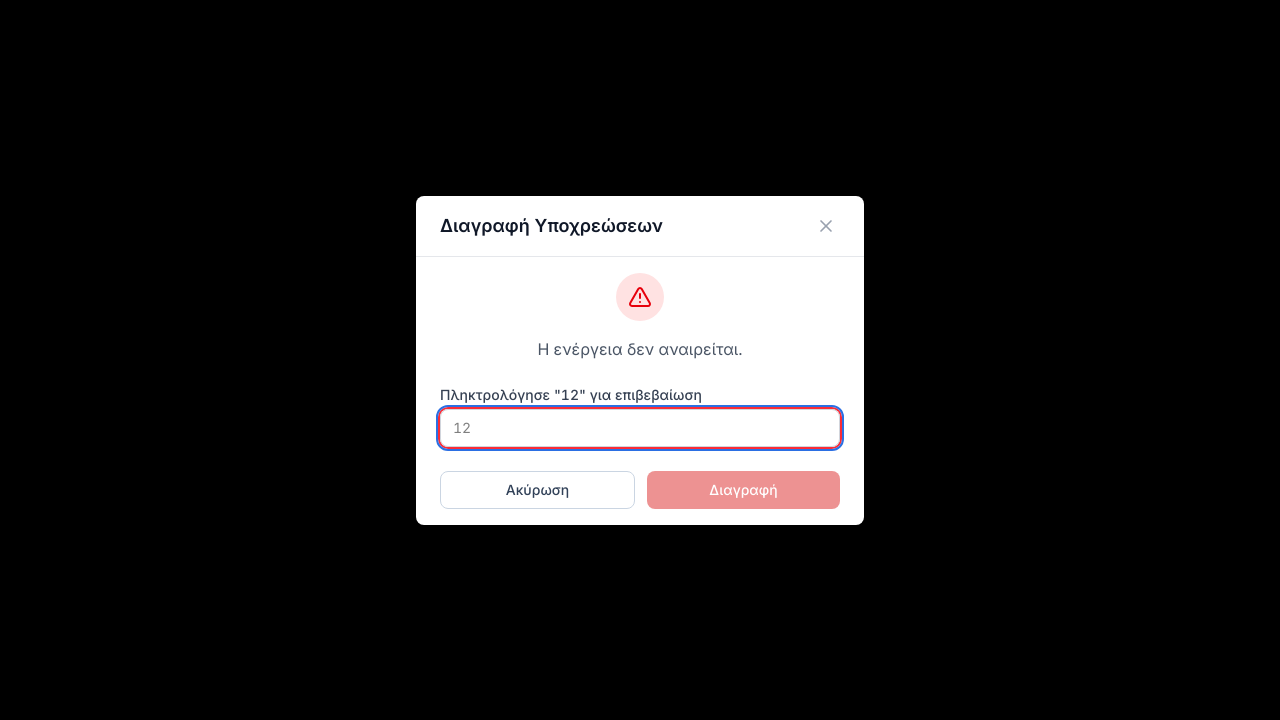
Test: ConfirmDialog › κρατά το κουμπί ανενεργό μέχρι να πληκτρολογηθεί η ακριβής τιμή
Expected: the button "Διαγραφή" is disabled, [647,470,840,508]
Μερική ή λάθος τιμή δεν ξεκλειδώνει.
Type "1" into the field at (640, 428), box [440,408,840,446]
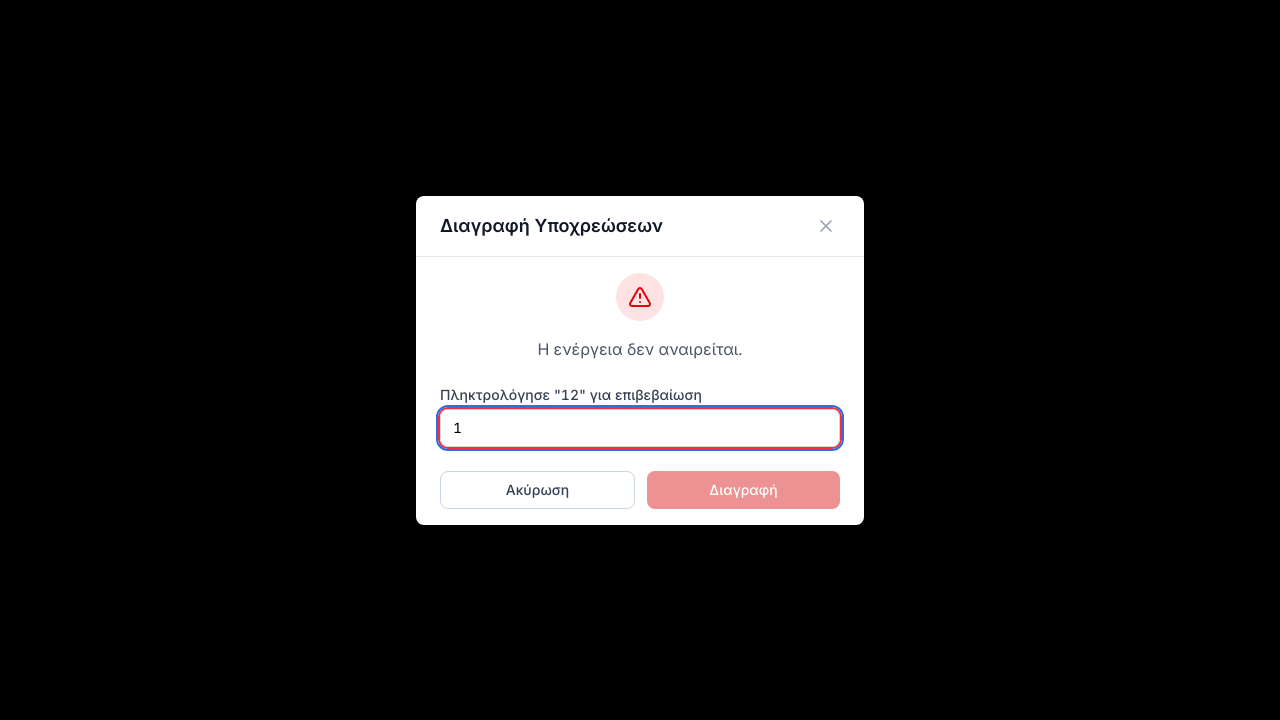
Expected: the button "Διαγραφή" is disabled, [647,470,840,508]
Replace the text in the field with "123" at (640, 428), box [440,408,840,446]
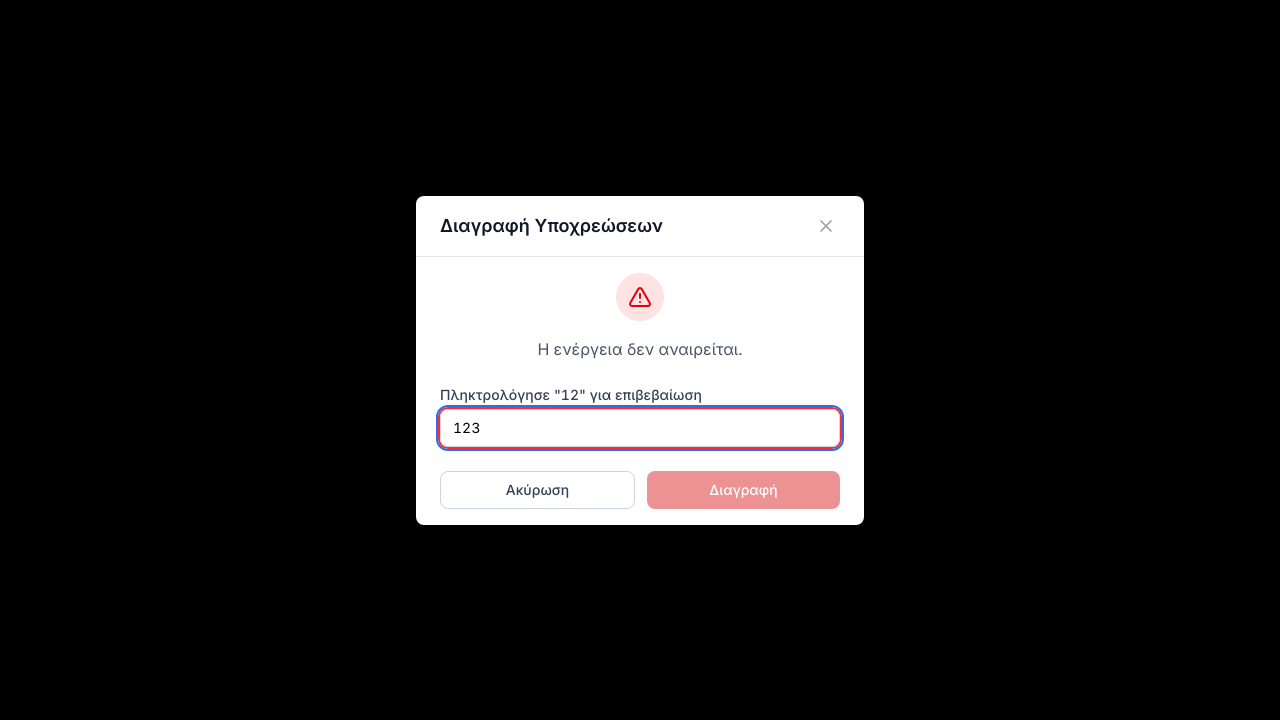
Expected: the button "Διαγραφή" is disabled, [647,470,840,508]
Replace the text in the field with "12" at (640, 428), box [440,408,840,446]
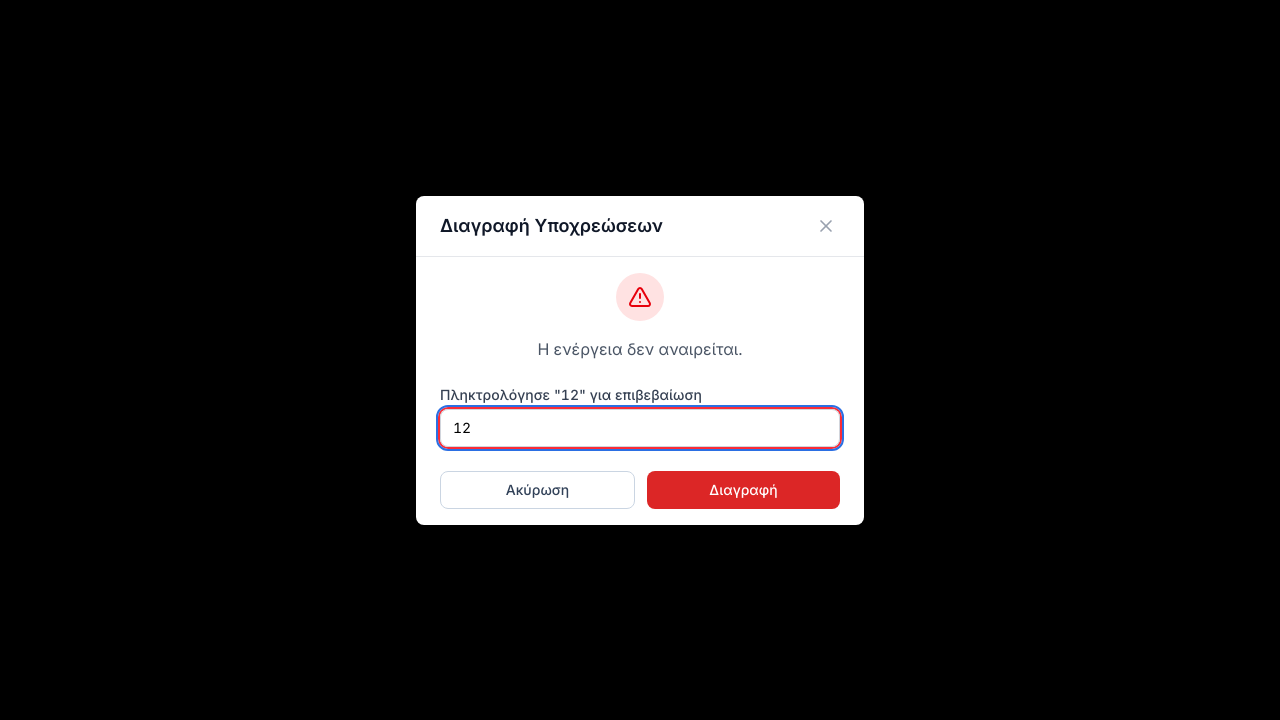
Now the button "Διαγραφή" is enabled, box [647,470,840,508]
